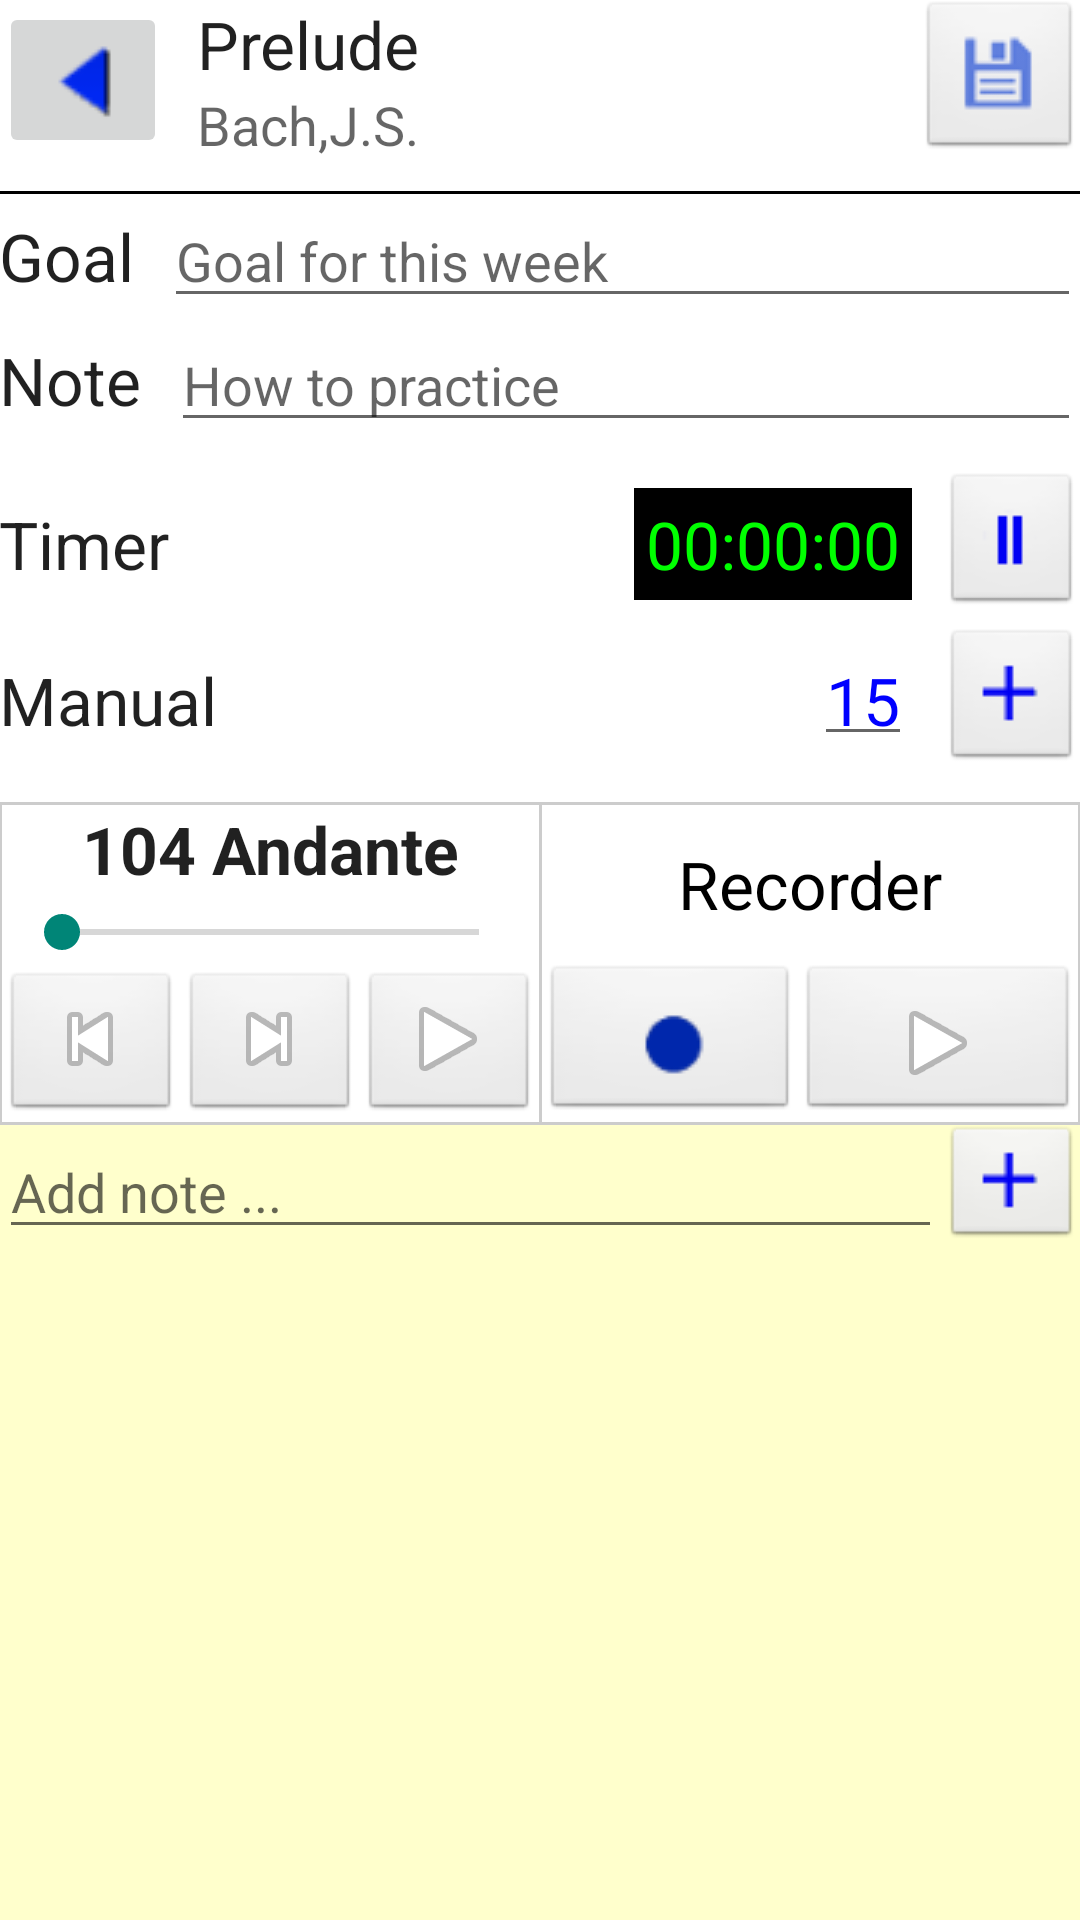

Locate icon controls on the screen. Image size 1080 x 1920, boxes as [x1,y1,x2,y2].
back: [11,20,155,140]
next: [189,973,351,1110]
pause: [950,474,1073,604]
previous: [10,973,172,1110]
save: [926,2,1073,148]
